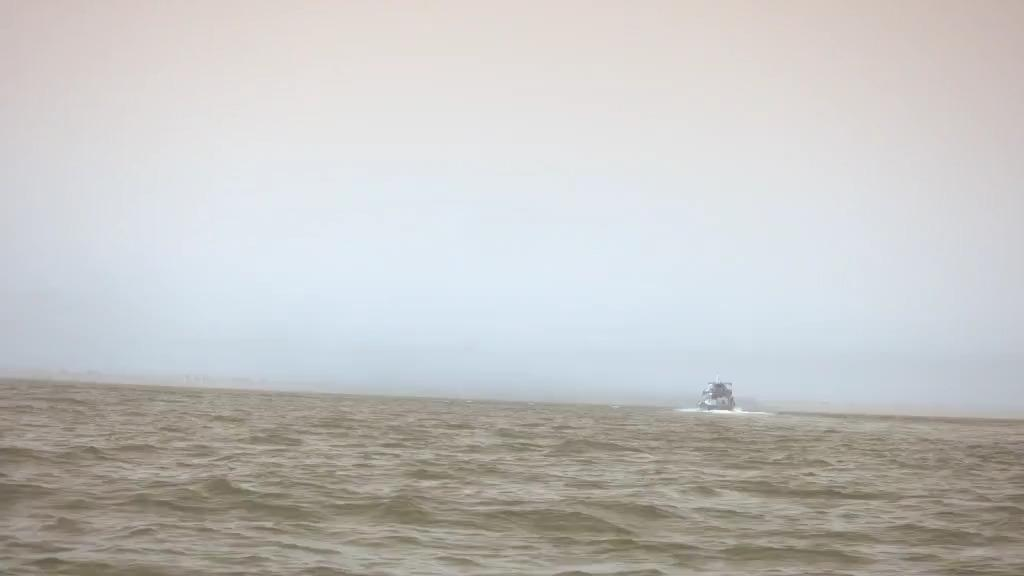PassengerShip: (696, 372, 744, 416)
